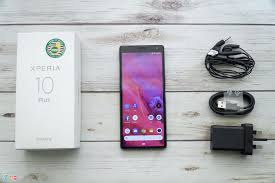sony: (114, 41, 167, 152)
